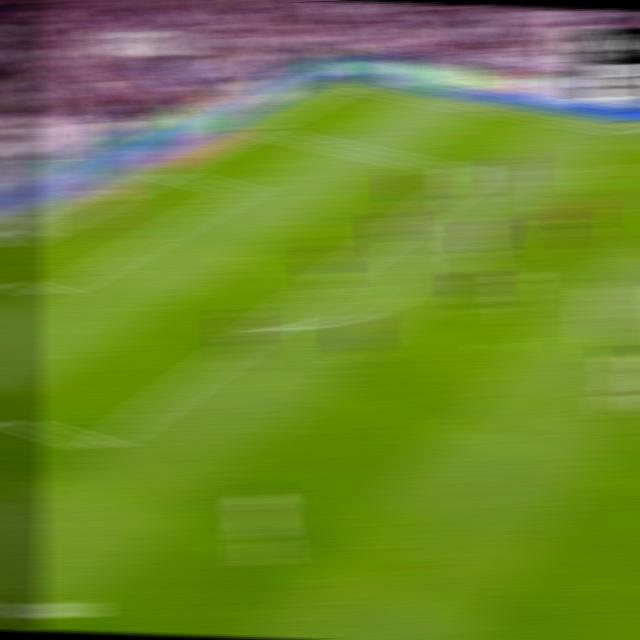bigarea_bottom_inner: (84, 429, 118, 462)
bigarea_top_inner: (459, 163, 490, 183)
bigarea_top_outter: (243, 121, 272, 135)
bottom_arc_area_intersection: (248, 318, 277, 337)
corner: (331, 78, 363, 90)
smallarea_bottom_inner: (34, 280, 66, 304)
smallarea_top_inner: (226, 184, 252, 197)
